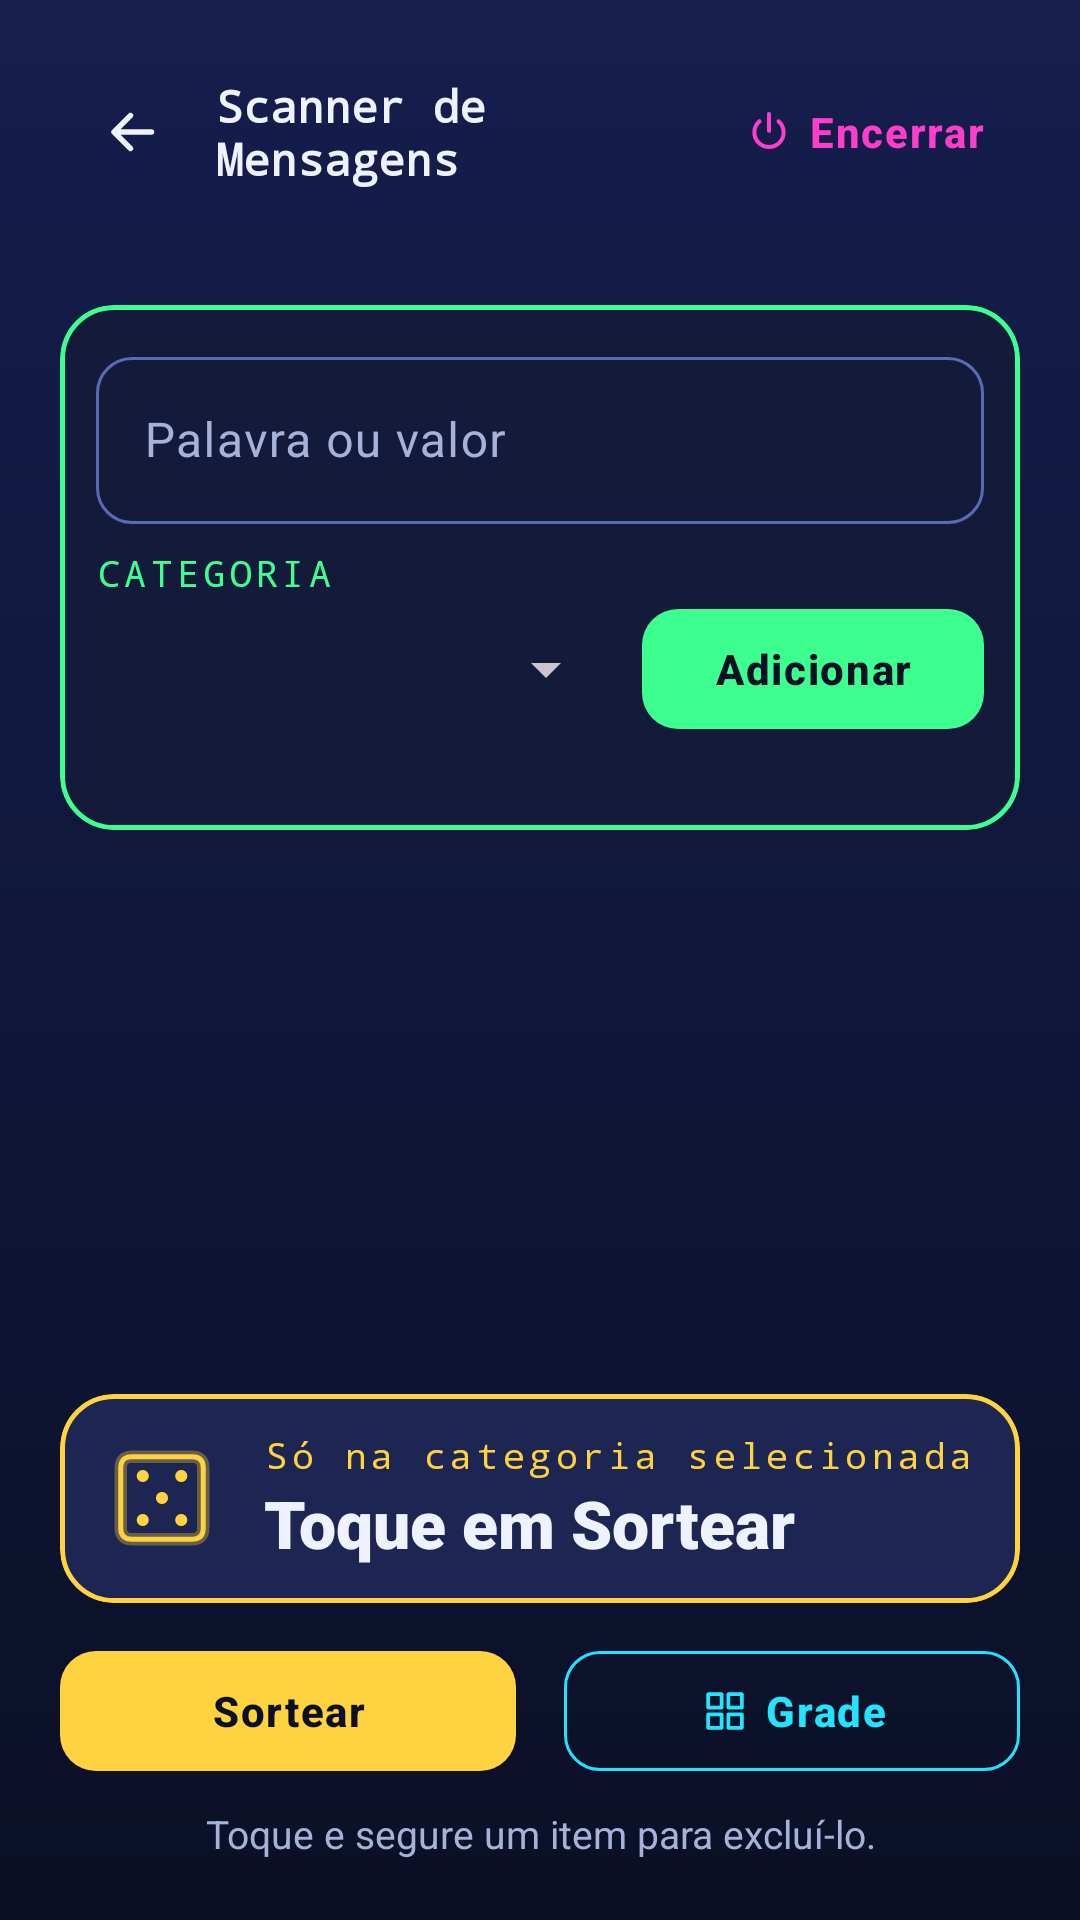

Icons on this 1080 × 1920 Android screen, each with the point to tap as (x,y):
Dado do sorteio: (162,1498)
Voltar para a Central de Desafios: (133,132)
